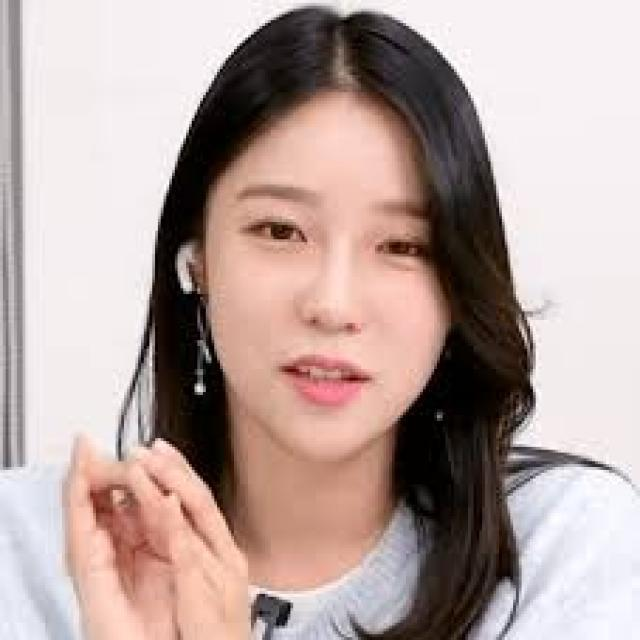earphone: (155, 232, 212, 316)
